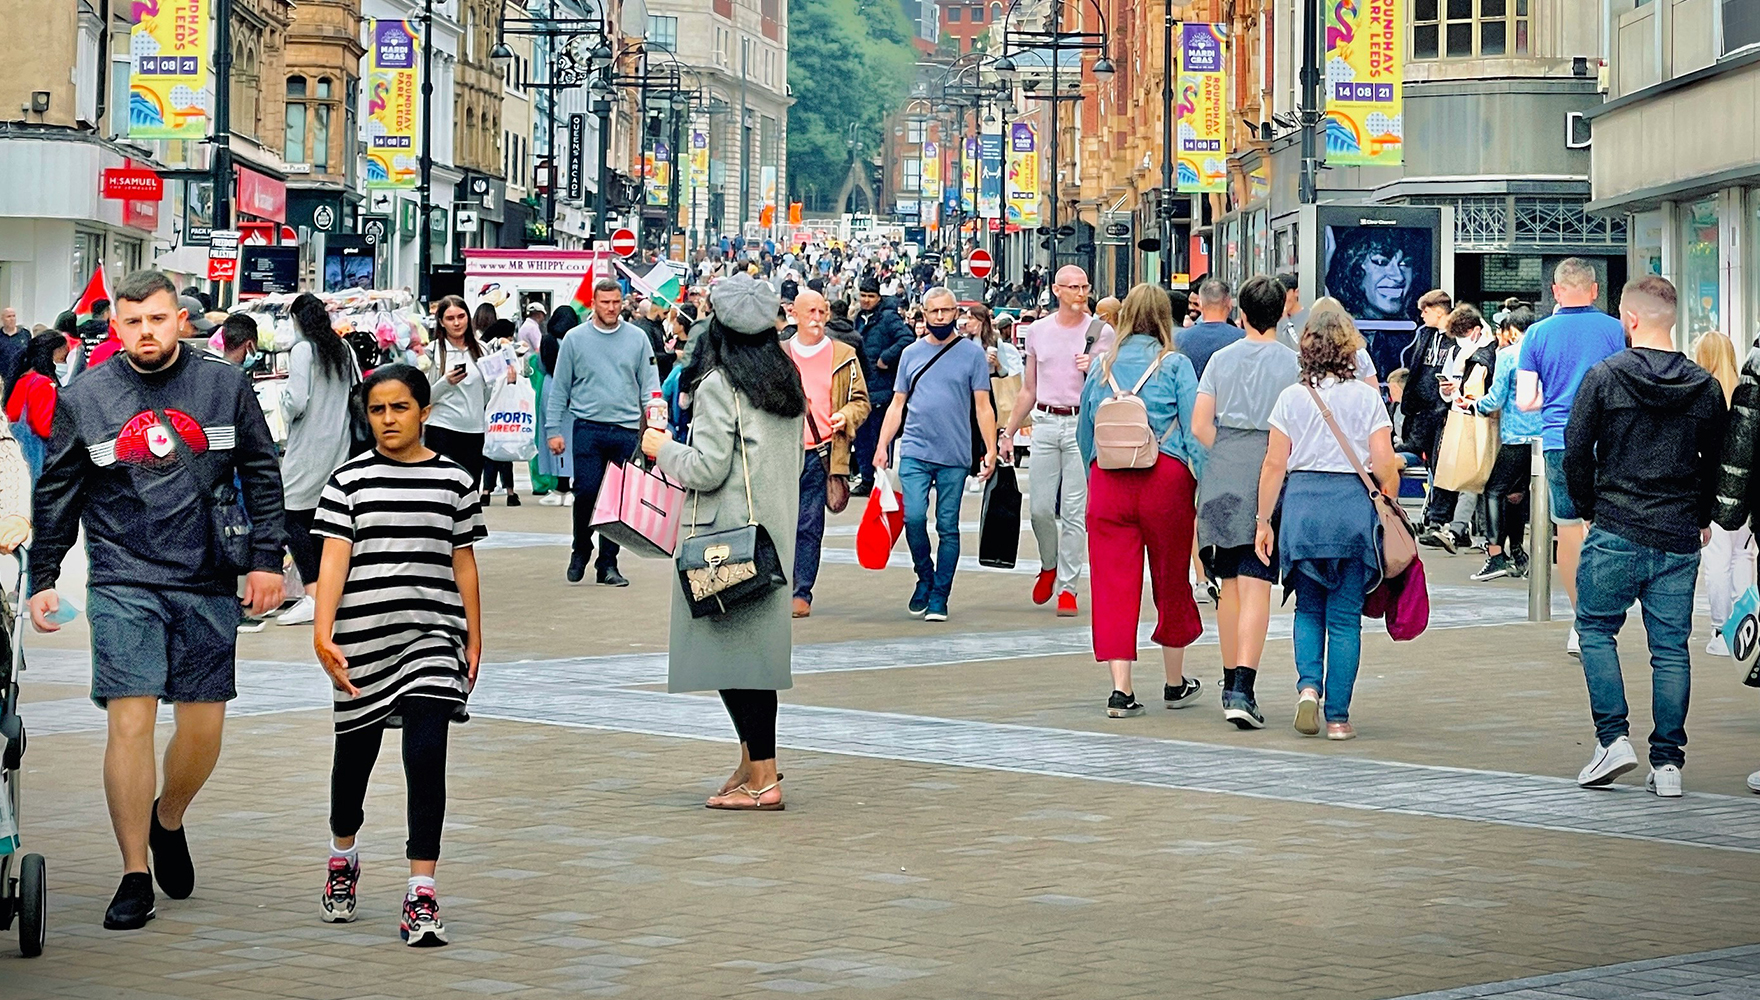person: (18, 263, 294, 949), (589, 275, 811, 819), (311, 356, 486, 959), (1559, 268, 1730, 814), (1252, 290, 1435, 747), (1186, 266, 1308, 736), (1079, 280, 1206, 729), (855, 278, 1001, 627), (1513, 251, 1630, 666), (988, 263, 1122, 622), (539, 268, 667, 597), (755, 269, 874, 615), (1008, 244, 1100, 629), (266, 271, 355, 629), (406, 288, 493, 517), (1478, 302, 1539, 592), (1439, 298, 1493, 561), (1405, 288, 1459, 544), (1, 302, 33, 429)
